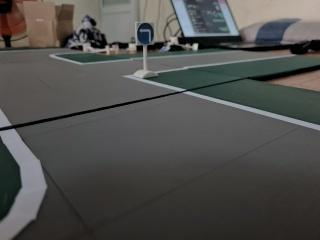left: (134, 21, 156, 46)
